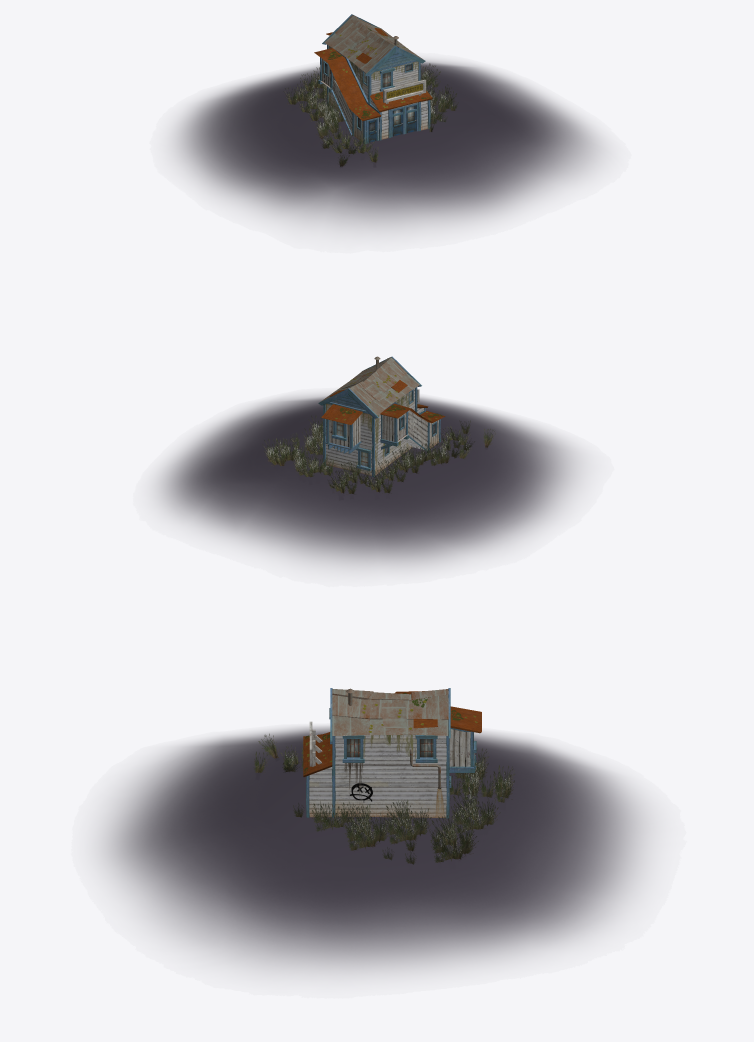
The model's file is storefront.glb.
The picture shows the model from 3 angles, top to bottom: view 1: azimuth 30°, elevation 25°; view 2: azimuth 150°, elevation 25°; view 3: azimuth 270°, elevation 25°; orthographic projection. The views are drawn at different scales.
Visible parts, largest first — view 1: house; view 2: house; view 3: house.
Boxes of the visible parts, <box> form: house: <box>174,14,602,230</box>; house: <box>157,356,580,567</box>; house: <box>101,688,648,973</box>.
Bounding box in the file's own units: 40.25 × 11.69 × 40.25.
12 materials, 12 textured.
